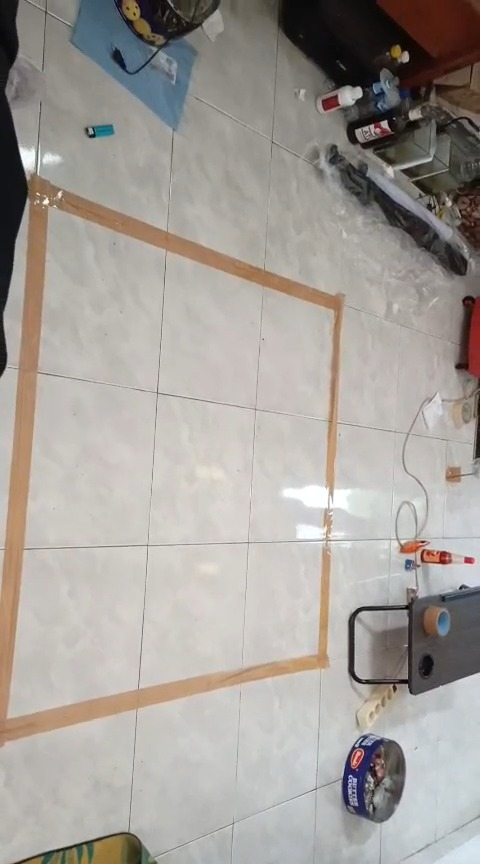floor marking: (0, 175, 342, 746)
